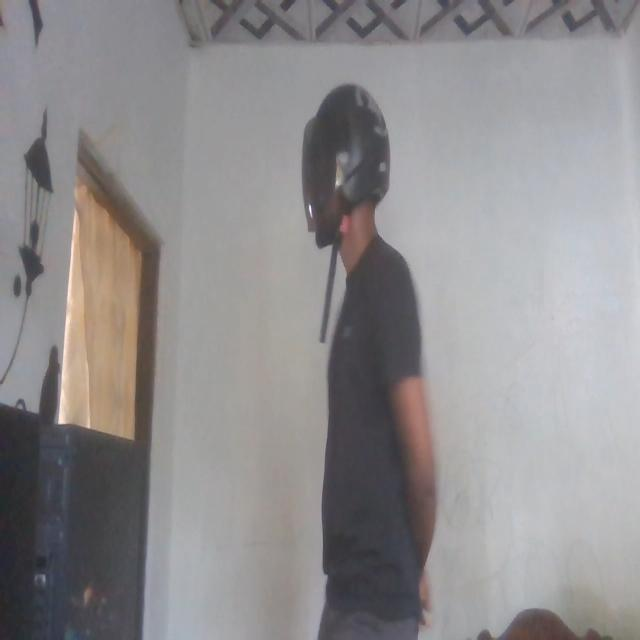Helmet_Wearer: (304, 81, 394, 283)
Person: (287, 78, 441, 640)
